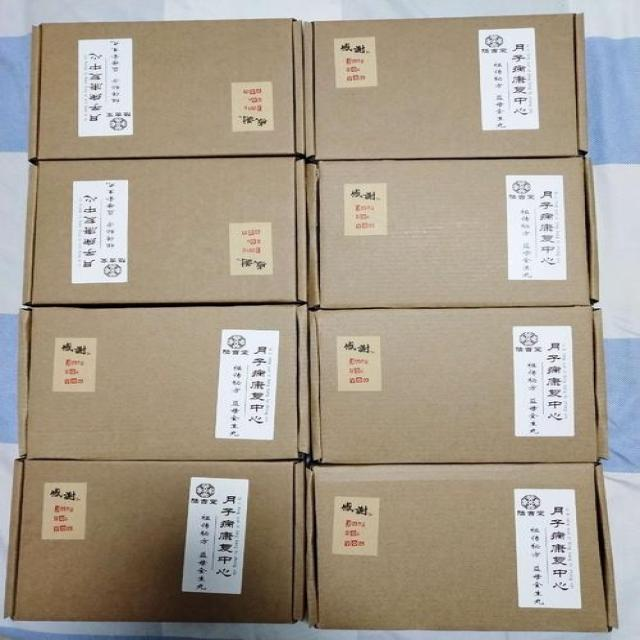box: (307, 464, 618, 633), (1, 462, 303, 624), (310, 307, 612, 462), (19, 305, 308, 460), (306, 157, 599, 309), (23, 158, 307, 307), (303, 13, 588, 160), (29, 19, 305, 161)
